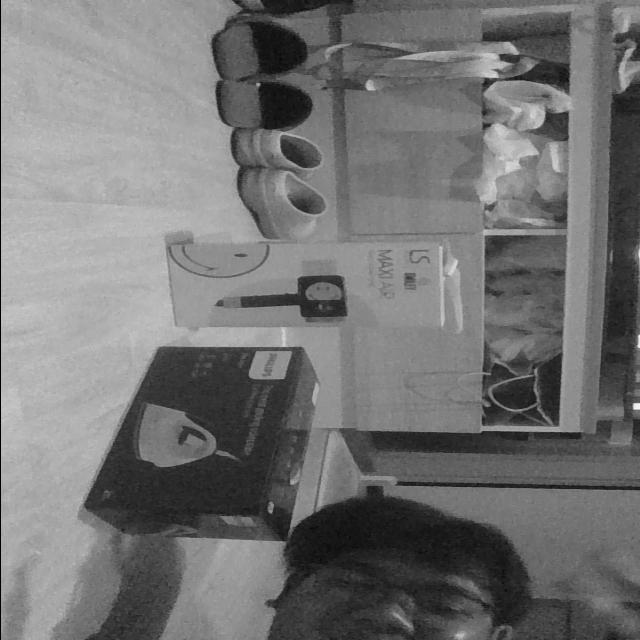Dryer: (163, 238, 465, 334)
IRON: (80, 344, 324, 544)
